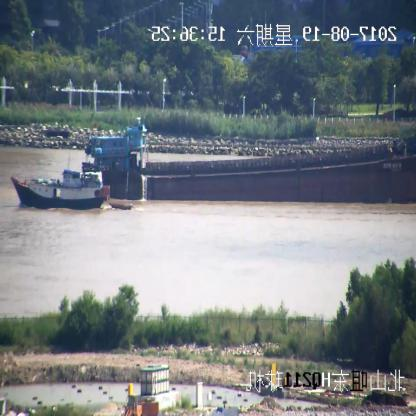Fishing Boat: (11, 168, 131, 209)
